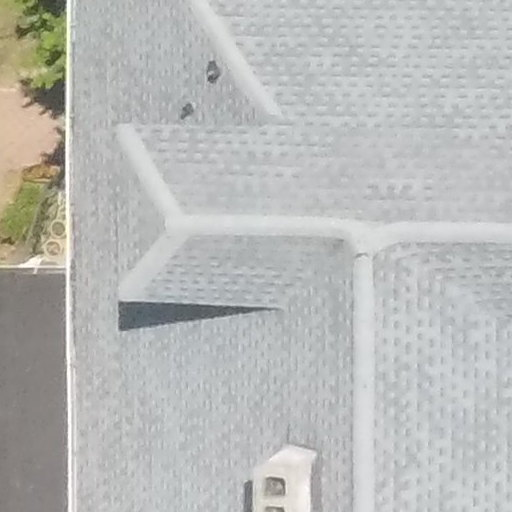chair: (49, 219, 69, 236)
container: (39, 239, 67, 259)
